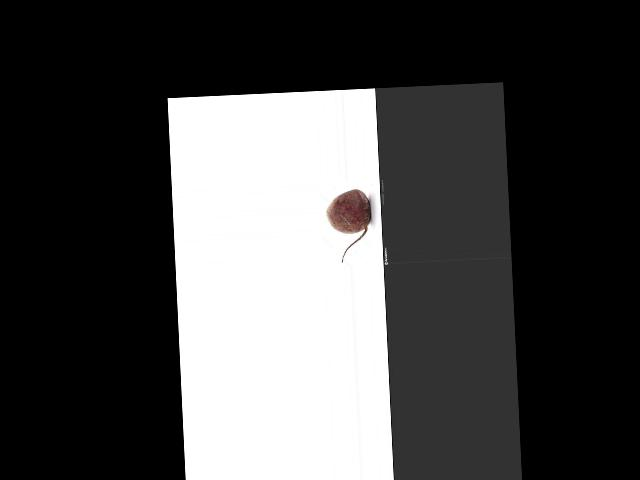beet: (326, 188, 373, 263)
